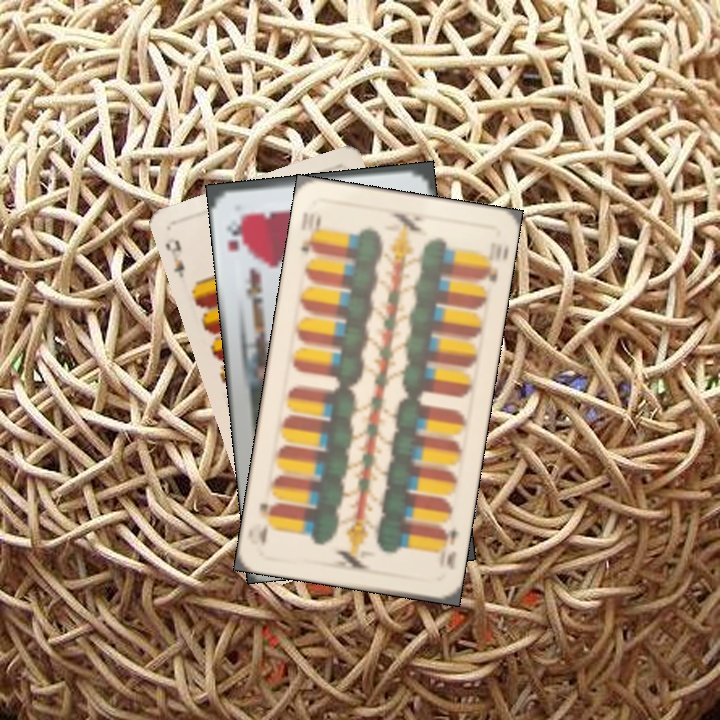E10: (296, 207, 324, 256), (434, 521, 460, 572)
E9: (161, 236, 188, 281)
HK: (222, 211, 246, 254)
